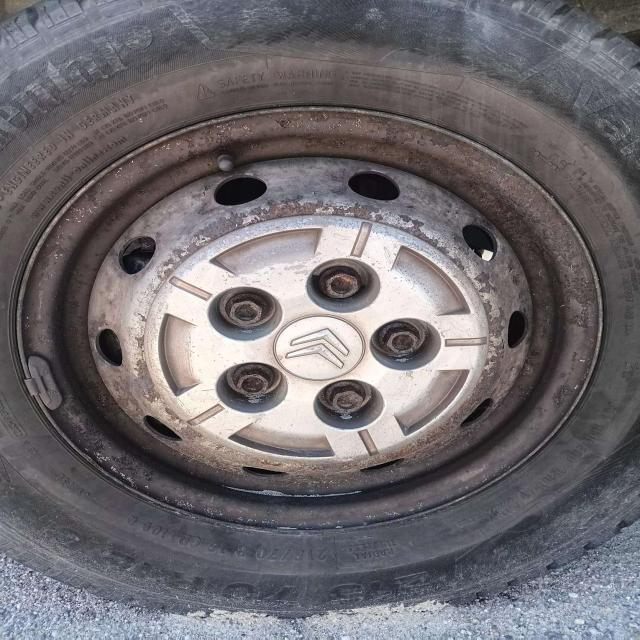jante: (14, 105, 602, 530)
parafuso: (372, 318, 428, 361), (218, 292, 272, 330), (318, 382, 371, 418), (228, 365, 278, 403), (320, 267, 365, 305)
roda: (0, 0, 640, 610)
